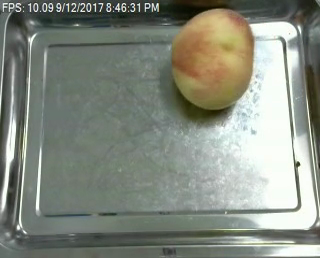Peach: (172, 8, 255, 109)
